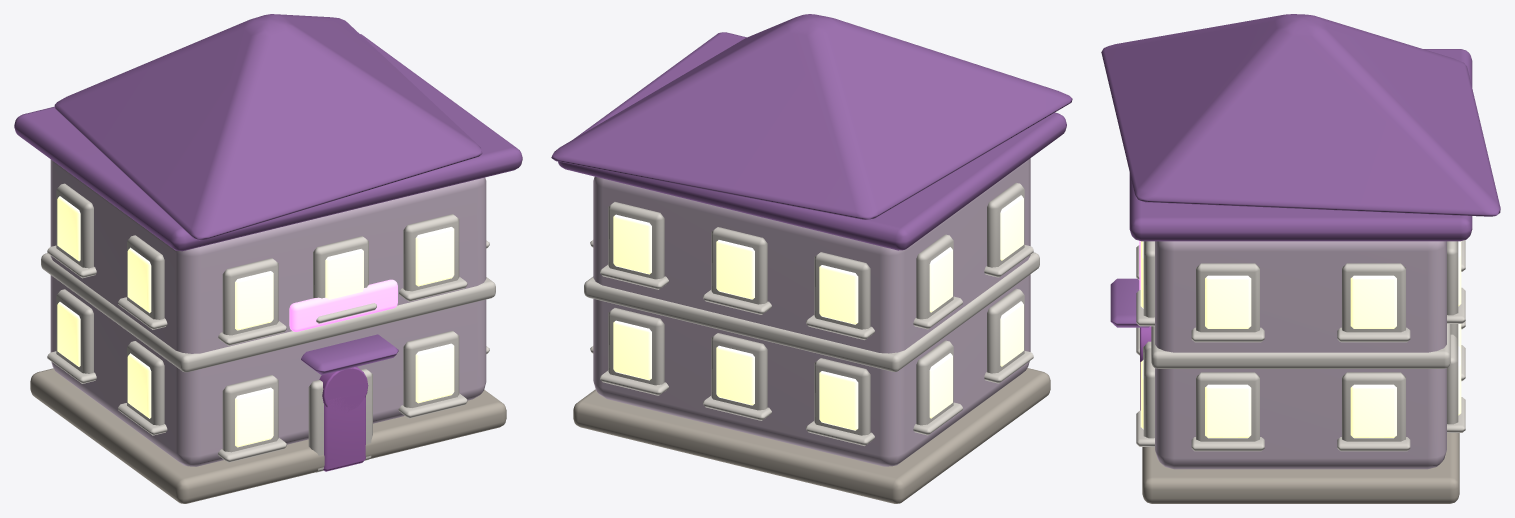
3 views of the same model, side by side, from view 1: azimuth 30°, elevation 25°; view 2: azimuth 150°, elevation 25°; view 3: azimuth 270°, elevation 25° (orthographic). The views are drawn at different scales.
Visible parts, largest first — view 1: Cube; view 2: Cube; view 3: Cube.
Boxes of the visible parts, box(x1,y1,x2,y2) form: Cube: box(14, 14, 522, 503); Cube: box(551, 14, 1072, 503); Cube: box(1101, 14, 1500, 503).
Bounding box in the file's own units: 0.66 × 0.7055 × 0.6298.
